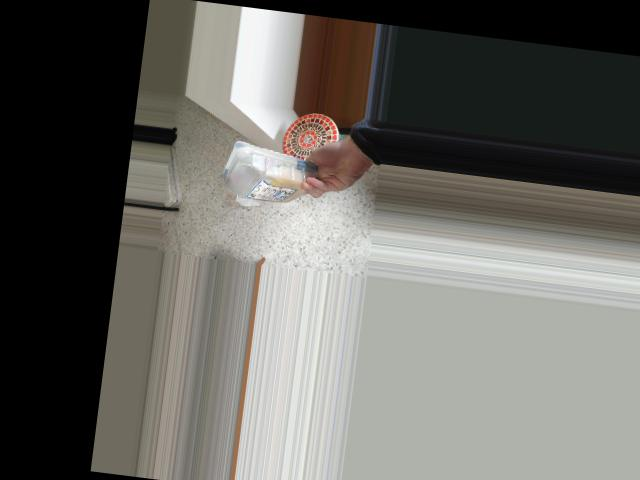cheese: (218, 143, 317, 207)
